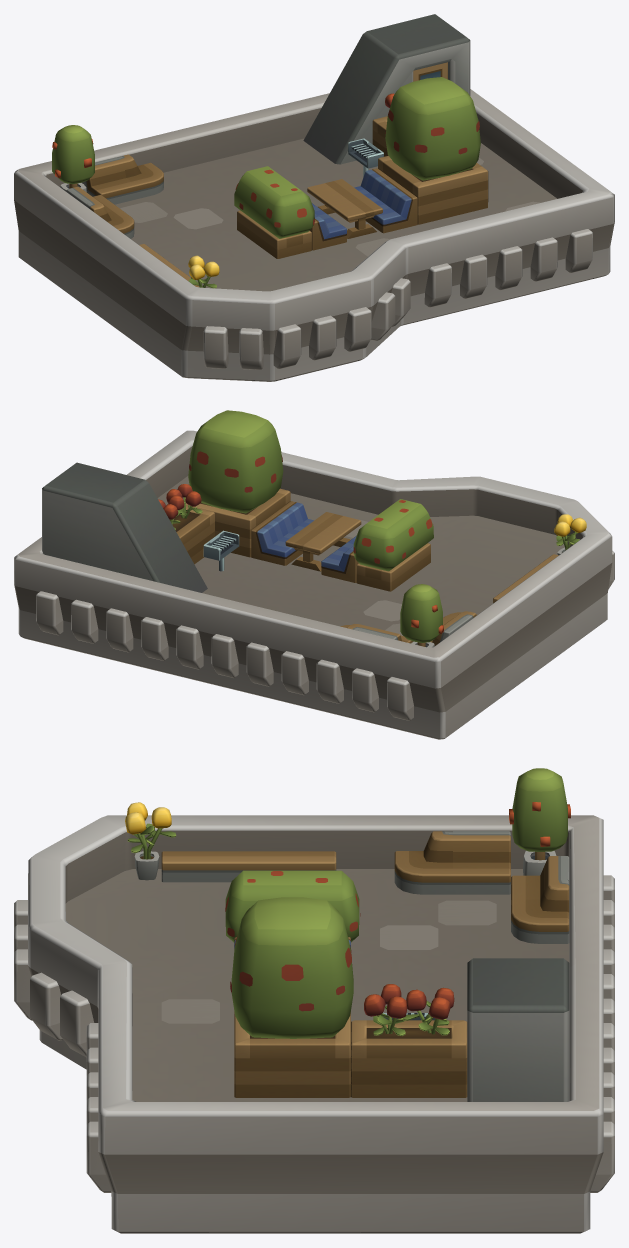
File: appartment_type2_roof_type2_deco.fbx
The picture shows the model from 3 angles, top to bottom: view 1: azimuth 30°, elevation 25°; view 2: azimuth 150°, elevation 25°; view 3: azimuth 270°, elevation 25°; orthographic projection. The views are drawn at different scales.
Parts seen in each view (by area): view 1: appartment_type2_roof_type2_deco; view 2: appartment_type2_roof_type2_deco; view 3: appartment_type2_roof_type2_deco.
Boxes of the visible parts, left/top/right/bottom form: appartment_type2_roof_type2_deco: left=14, top=14, right=614, bottom=381; appartment_type2_roof_type2_deco: left=14, top=410, right=614, bottom=739; appartment_type2_roof_type2_deco: left=14, top=768, right=614, bottom=1233.
Bounding box in the file's own units: 1217 × 463 × 1032.
